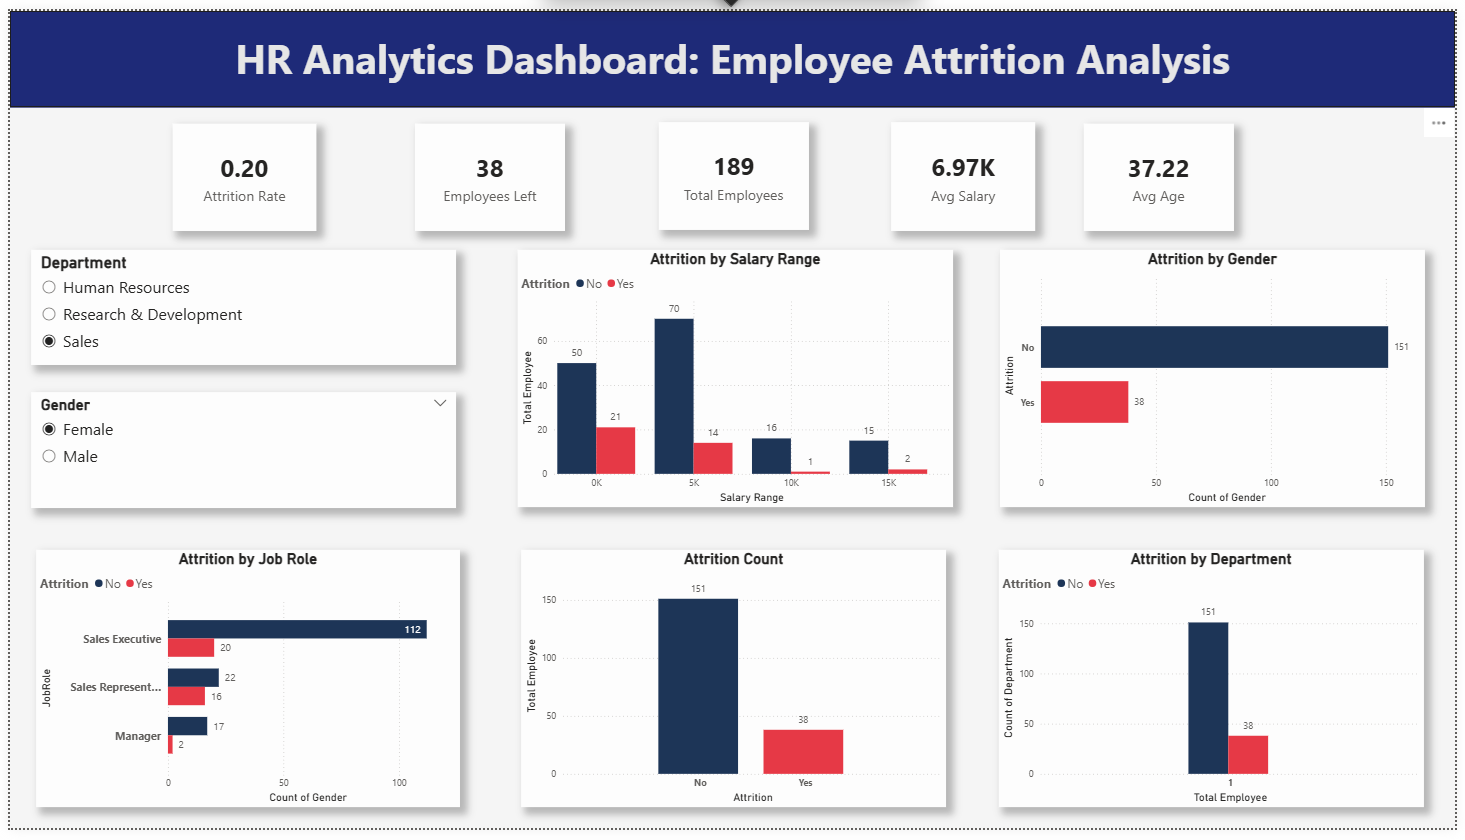

Layout of this report page (visuals, bound fields, positions):
{"tool":"powerbi","page":{"name":"Page 1","canvas":[1927,1090],"ordinal":0},"visuals":[{"type":"card","fields":{"Values":["HR.Attrition Rate"]},"box":[215.8,149.2,192,142.8],"z":0},{"type":"clusteredColumnChart","title":"Attrition by Department","fields":{"Category":["HR.Total Employee"],"Y":["CountNonNull(HR.Department)"],"Series":["HR.Attrition"]},"box":[1318.9,718.9,566.6,342.8],"z":1000},{"type":"clusteredColumnChart","title":"Attrition Count","fields":{"Category":["HR.Attrition"],"Y":["Sum(HR.Total Employee)"]},"box":[682.4,718.9,566.6,342.8],"z":2000},{"type":"clusteredBarChart","title":"Attrition by Job Role","fields":{"Category":["HR.JobRole"],"Y":["CountNonNull(HR.Gender)"],"Series":["HR.Attrition"]},"box":[35,718.3,565,343.3],"z":3000},{"type":"clusteredBarChart","title":"Attrition by Gender","fields":{"Category":["HR.Attrition"],"Y":["CountNonNull(HR.Gender)"]},"box":[1320.4,319,566.6,342.8],"z":4000},{"type":"slicer","fields":{"Values":["HR.Gender"]},"box":[28.6,507.9,566.6,154],"z":5000},{"type":"slicer","fields":{"Values":["HR.Department"]},"box":[28.6,319,566.6,153.9],"z":6000},{"type":"clusteredColumnChart","title":"Attrition by Salary Range","fields":{"Category":["HR.Salary Range"],"Y":["Sum(HR.Total Employee)"],"Series":["HR.Attrition"]},"box":[676.1,319,580.9,342.8],"z":7000},{"type":"card","fields":{"Values":["HR.Total Employees"]},"box":[865,147.6,200,142.8],"z":8000},{"type":"textbox","box":[285.3,26.3,1358.4,68.3],"z":9000},{"type":"card","fields":{"Values":["HR.Employees Left"]},"box":[539.6,149.2,200,142.8],"z":10000},{"type":"card","fields":{"Values":["HR.Avg Age"]},"box":[1431.5,149.2,200,142.8],"z":11000},{"type":"card","fields":{"Values":["HR.Avg Salary"]},"box":[1174.4,147.6,192,144.4],"z":12000},{"type":"shape","box":[0,0,1926.7,128.6],"z":13000},{"type":"textbox","box":[266.7,21.7,1393.3,86.7],"z":14000}]}

Visuals, with their boxes in screenshot pixels (x1, y1, x2, y2), scaled from the page's 1927x1090 canvas onto the 1465x840 screenshot:
card - HR.Attrition Rate: x1=164 y1=115 x2=310 y2=225
"Attrition by Department" clusteredColumnChart: x1=1003 y1=554 x2=1433 y2=818
"Attrition Count" clusteredColumnChart: x1=519 y1=554 x2=950 y2=818
"Attrition by Job Role" clusteredBarChart: x1=27 y1=554 x2=456 y2=818
"Attrition by Gender" clusteredBarChart: x1=1004 y1=246 x2=1435 y2=510
slicer - HR.Gender: x1=22 y1=391 x2=453 y2=510
slicer - HR.Department: x1=22 y1=246 x2=453 y2=364
"Attrition by Salary Range" clusteredColumnChart: x1=514 y1=246 x2=956 y2=510
card - HR.Total Employees: x1=658 y1=114 x2=810 y2=224
textbox: x1=217 y1=20 x2=1250 y2=73
card - HR.Employees Left: x1=410 y1=115 x2=562 y2=225
card - HR.Avg Age: x1=1088 y1=115 x2=1240 y2=225
card - HR.Avg Salary: x1=893 y1=114 x2=1039 y2=225
shape: x1=0 y1=0 x2=1464 y2=99
textbox: x1=203 y1=17 x2=1262 y2=84
